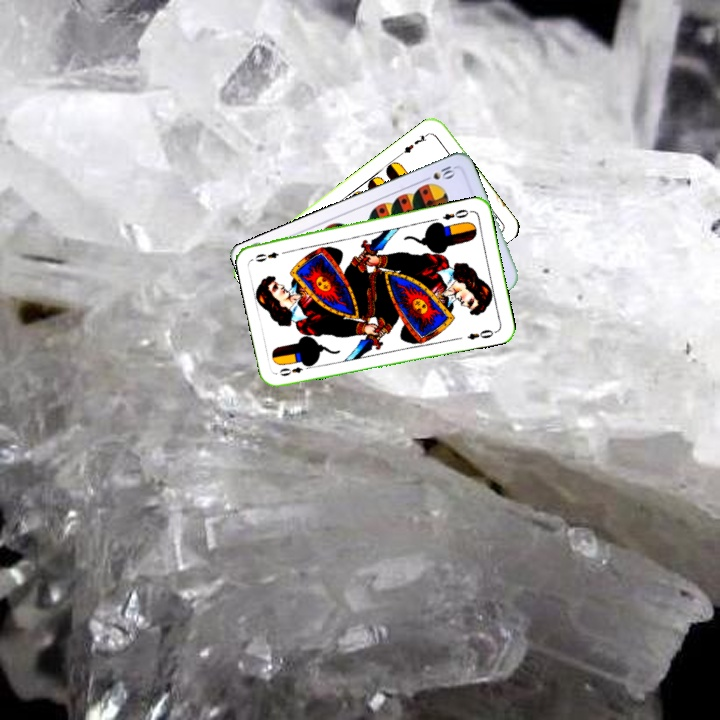E7: (397, 129, 432, 158)
EO: (275, 359, 314, 379), (438, 205, 471, 222)
S10: (419, 161, 458, 184)
